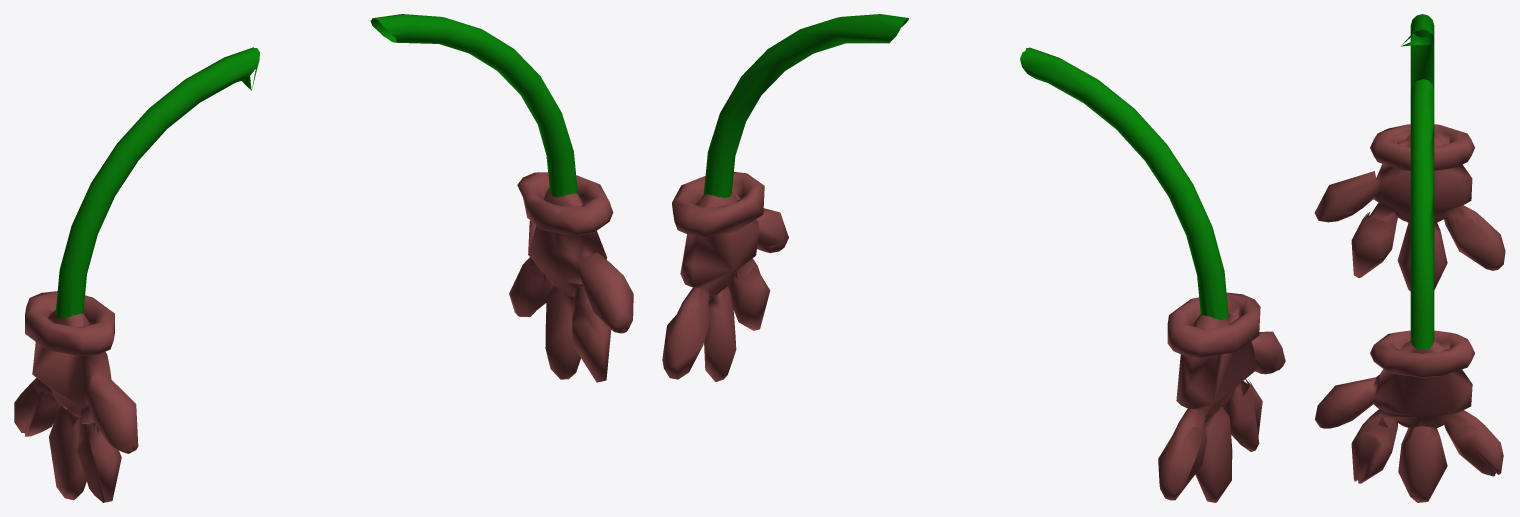
The model's file is rece0.obj.
3 renders of one model, left to right at view 1: azimuth 30°, elevation 25°; view 2: azimuth 150°, elevation 25°; view 3: azimuth 270°, elevation 25°, orthographic. The views are drawn at different scales.
Parts seen in each view (by area): view 1: Rece, DlonPrawa1, DlonLewa1, DlonLewa2, DlonPrawa2; view 2: Rece, DlonPrawa1, DlonLewa1, DlonLewa2, DlonPrawa2; view 3: DlonPrawa1, DlonLewa1, Rece, DlonPrawa2, DlonLewa2.
Part boxes in pixels (left/top/right/bottom): Rece: left=55, top=14, right=577, bottom=318; DlonPrawa1: left=517, top=172, right=633, bottom=333; DlonLewa1: left=25, top=291, right=138, bottom=452; DlonLewa2: left=14, top=381, right=135, bottom=502; DlonPrawa2: left=509, top=260, right=625, bottom=382; Rece: left=704, top=14, right=1228, bottom=319; DlonPrawa1: left=672, top=172, right=788, bottom=317; DlonLewa1: left=1167, top=292, right=1285, bottom=438; DlonLewa2: left=1158, top=379, right=1262, bottom=502; DlonPrawa2: left=662, top=263, right=770, bottom=381; DlonPrawa1: left=1315, top=330, right=1483, bottom=432; DlonLewa1: left=1314, top=124, right=1484, bottom=225; Rece: left=1401, top=14, right=1434, bottom=349; DlonPrawa2: left=1323, top=418, right=1503, bottom=502; DlonLewa2: left=1351, top=212, right=1505, bottom=291.
Size of the model in its own units: 1.17 by 0.8031 by 0.403.
